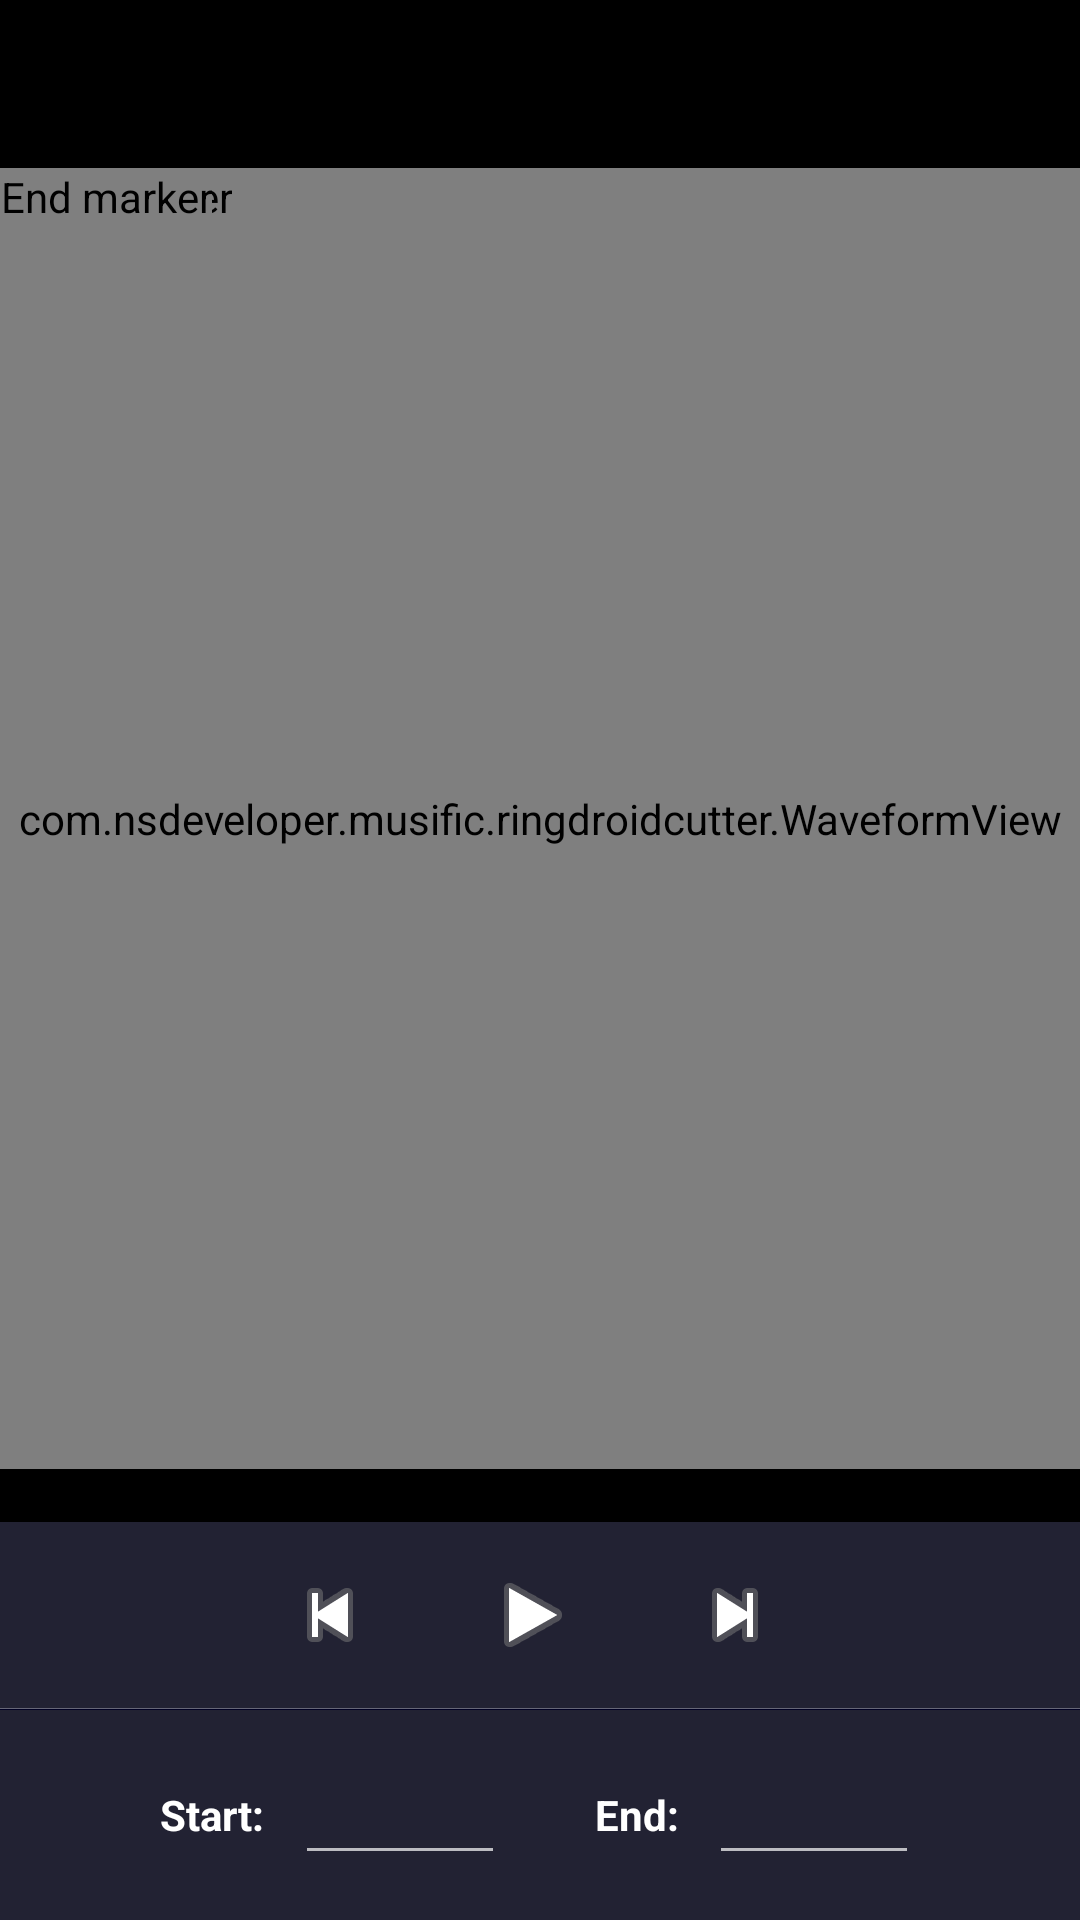

Point at icon controls on the screen. Image size 1080x1920, points as [x,y].
Fast forward: [735,1615]
Play: [533,1615]
Rewind: [330,1615]
